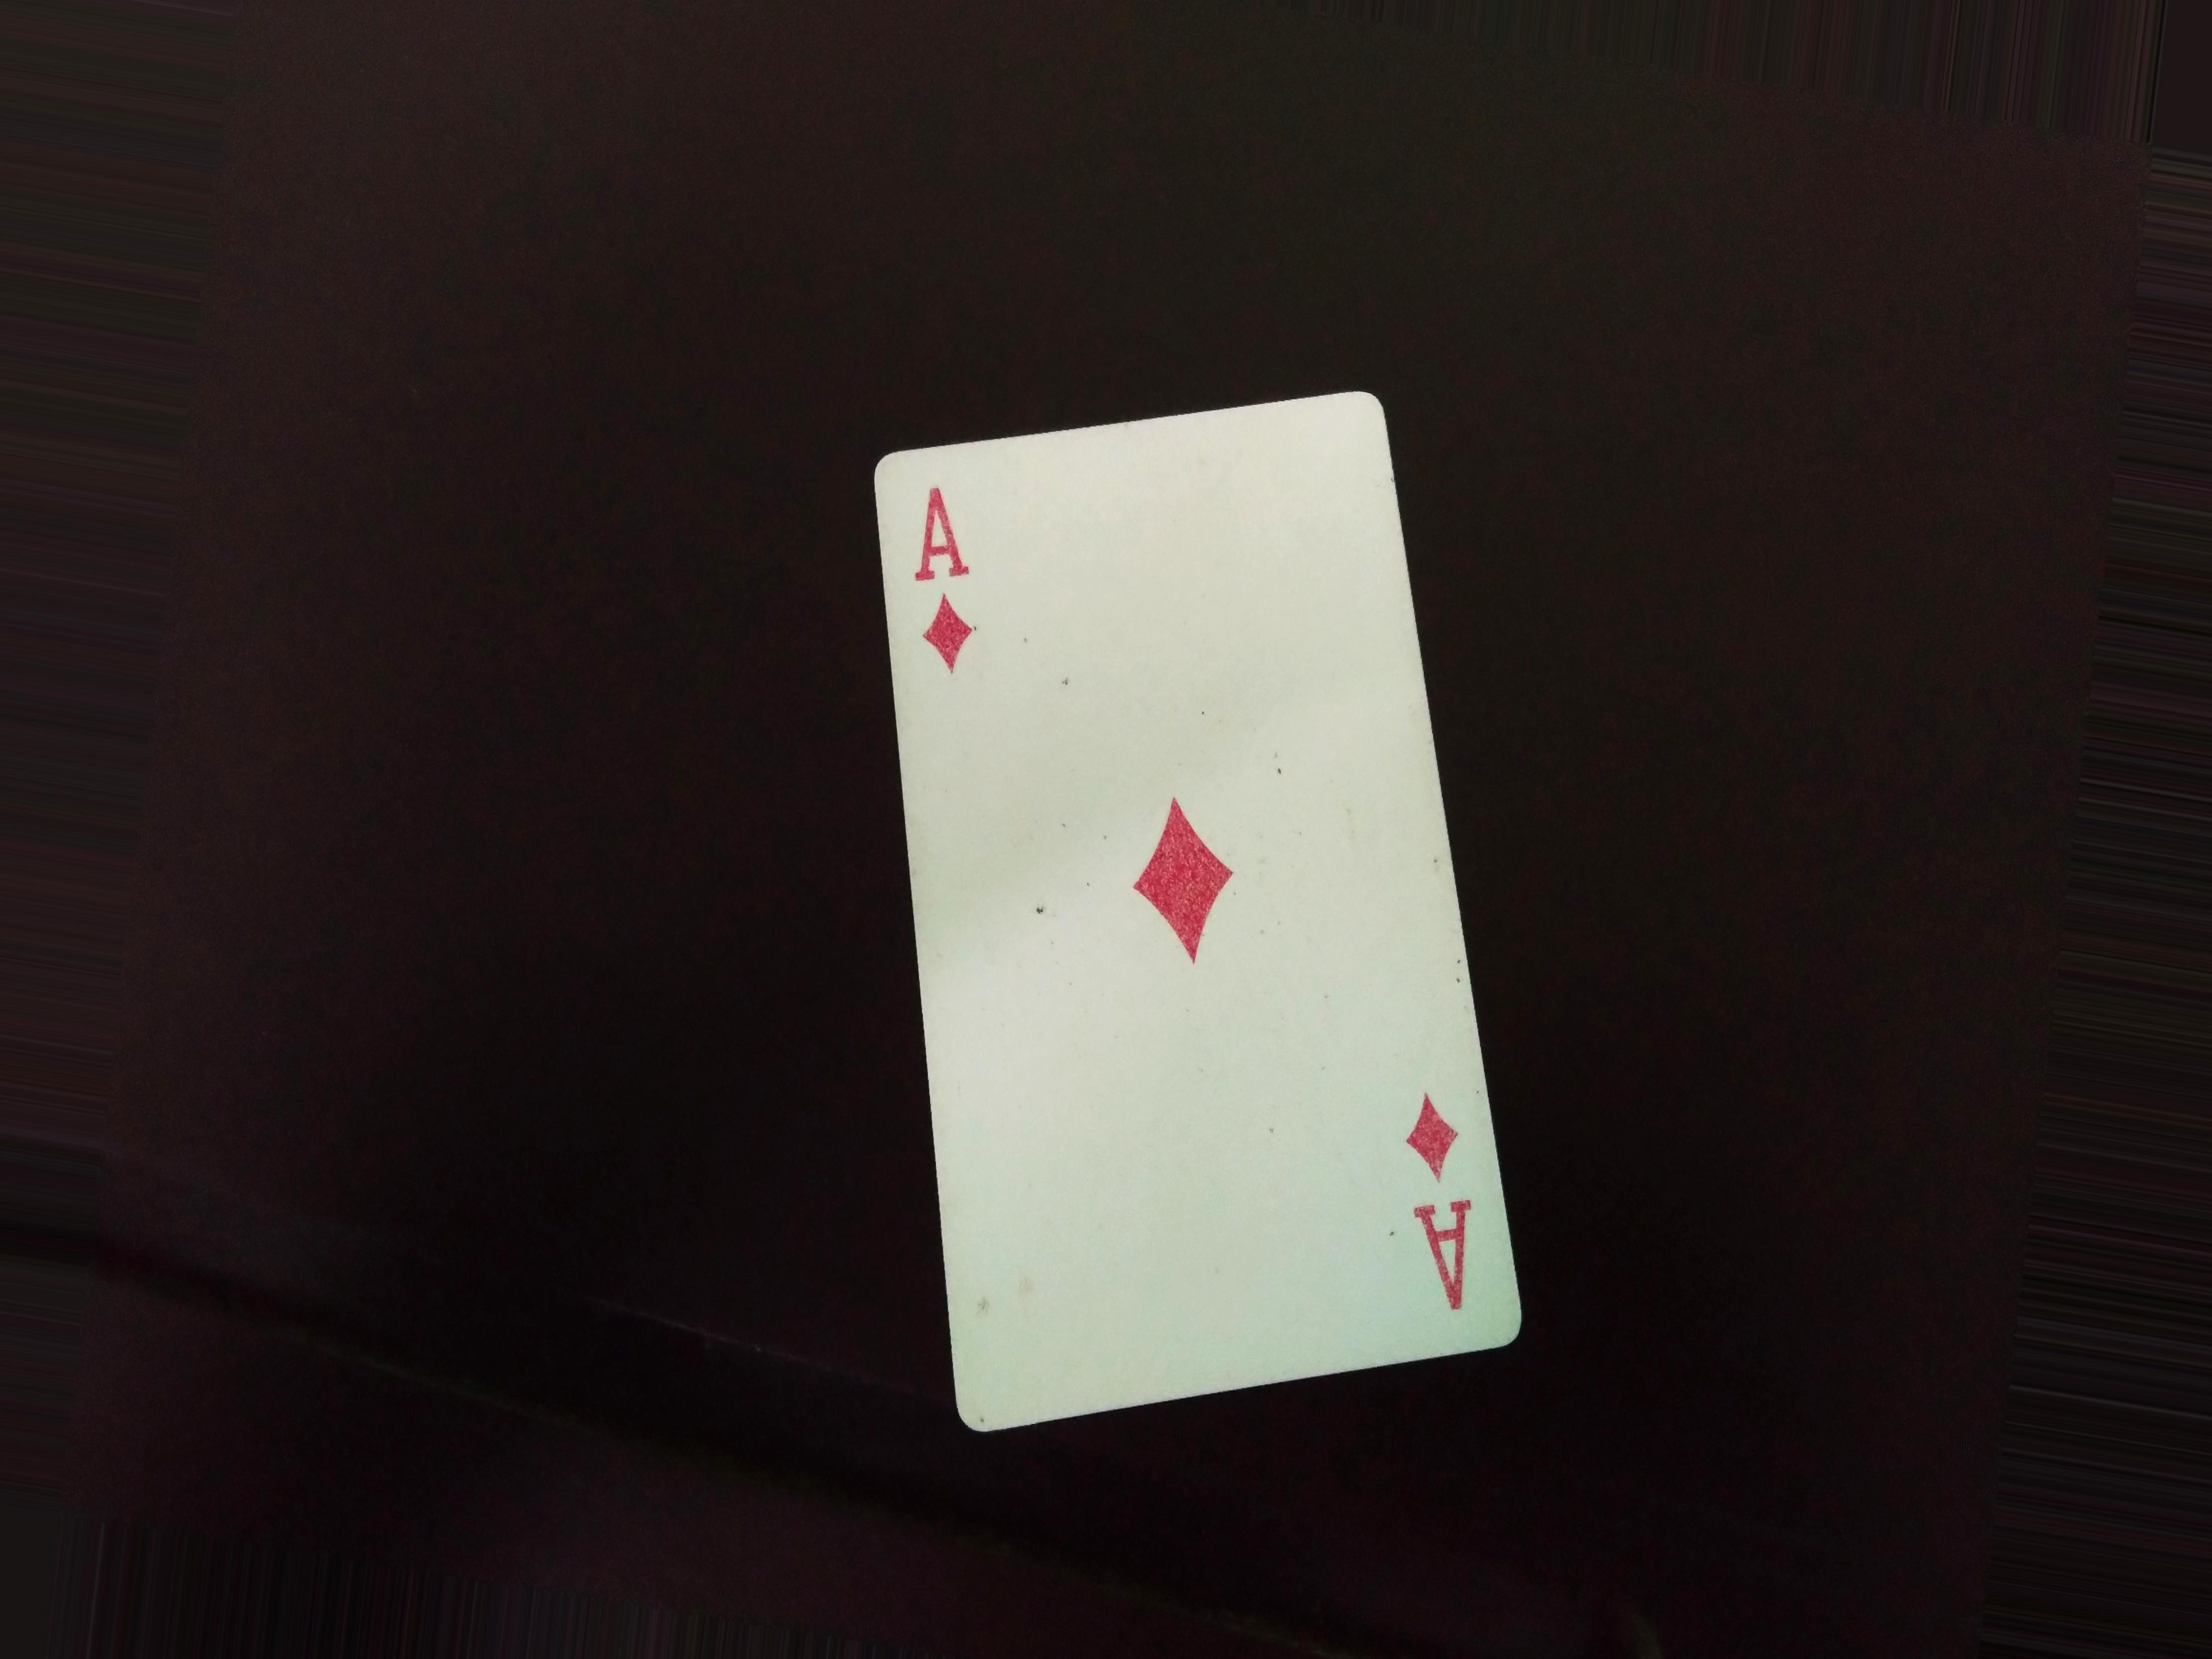AD: (1374, 1053, 1503, 1331)
